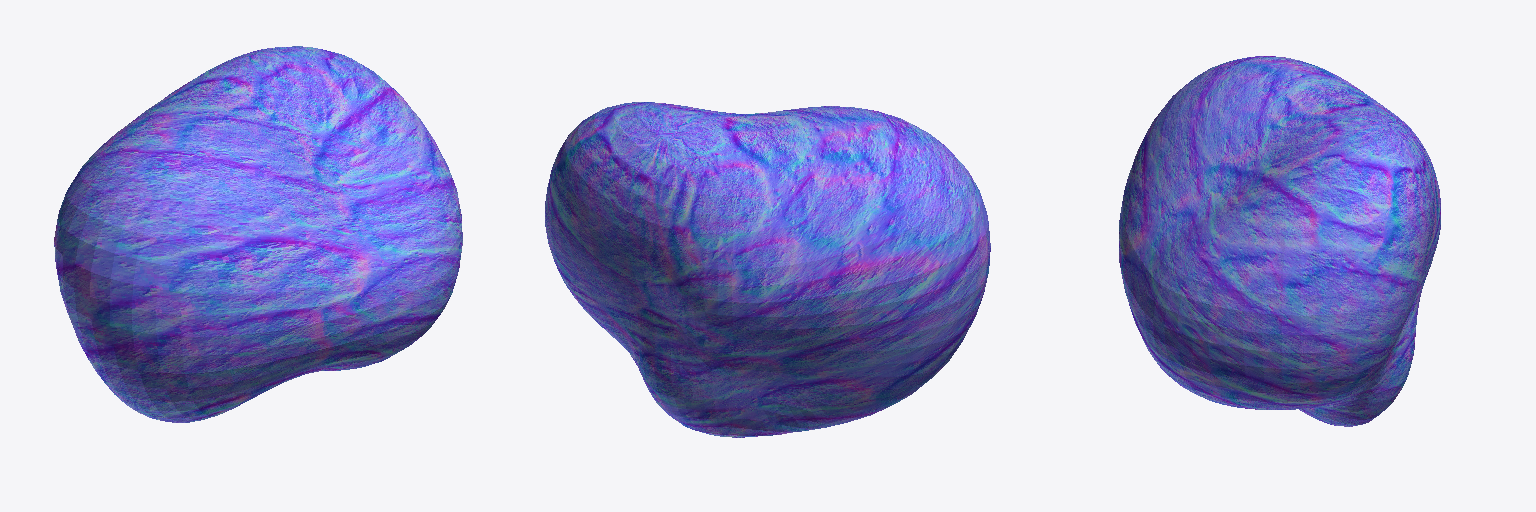
3 views of the same model, side by side, from view 1: azimuth 30°, elevation 25°; view 2: azimuth 150°, elevation 25°; view 3: azimuth 270°, elevation 25° (orthographic).
Parts seen in each view (by area): view 1: Sphere_Sphere.003; view 2: Sphere_Sphere.003; view 3: Sphere_Sphere.003.
Boxes of the visible parts, <box> form: Sphere_Sphere.003: <box>54,46,462,422</box>; Sphere_Sphere.003: <box>545,102,990,437</box>; Sphere_Sphere.003: <box>1119,56,1440,426</box>.
Size of the model in its own units: 2.38 by 1.82 by 1.7.
1 materials, 1 textured.